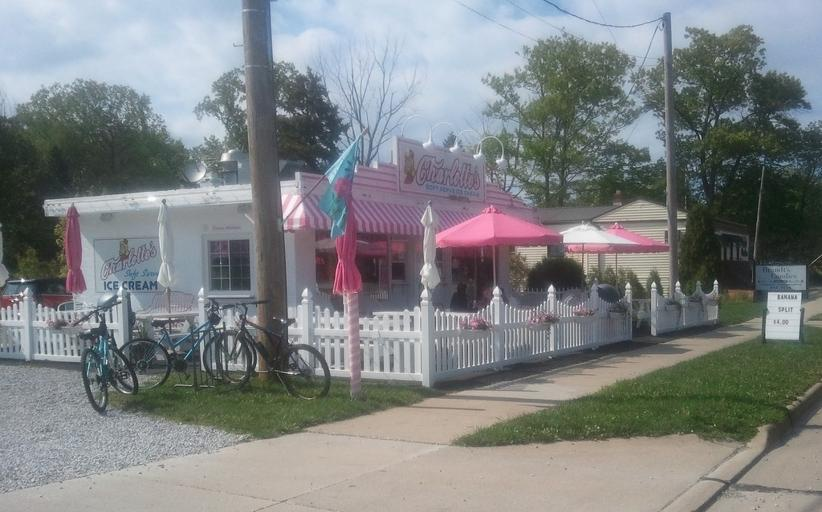non-vehicle: (113, 297, 258, 391), (202, 297, 332, 401), (73, 293, 138, 413)
